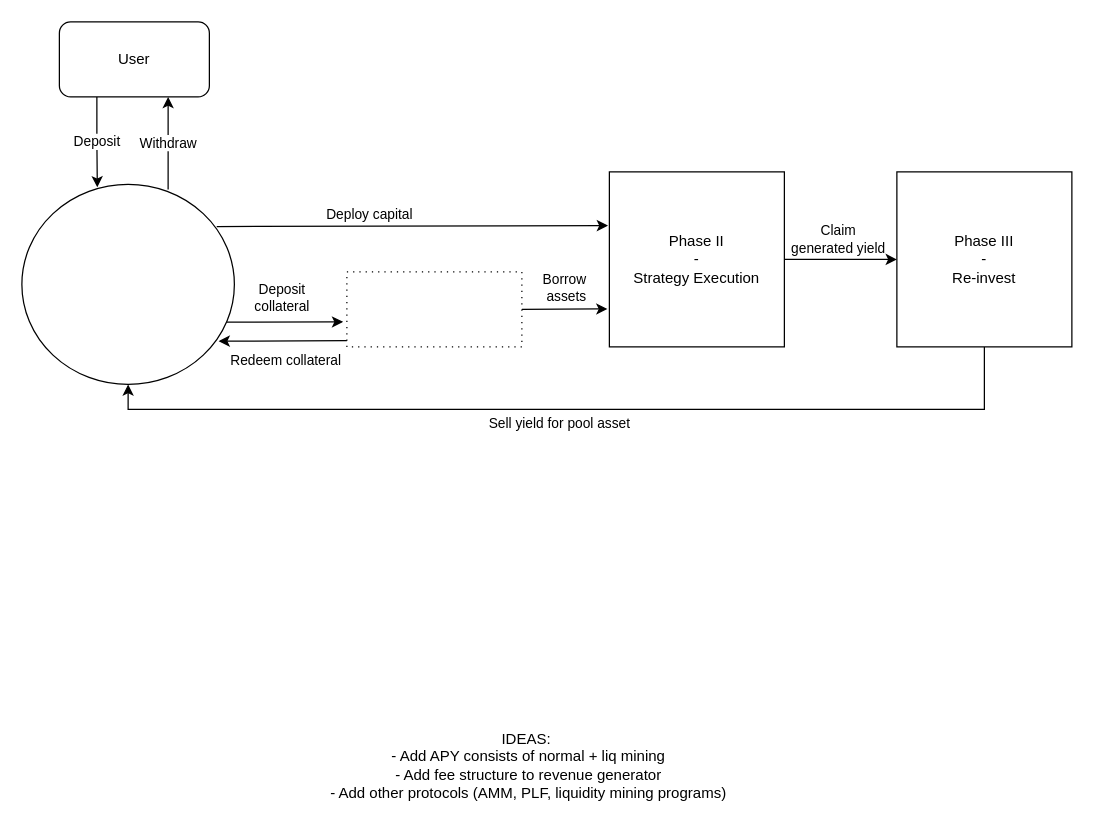
Some shapes in this 1094 by 825 pixel diagram are drawn without their labels. The shapes that lost their labels are listed below. From the top down, each one's centre as x and y in pixels, then its label:
the point at 127,283: Pool
the point at 434,309: Phase I - Collateralize
